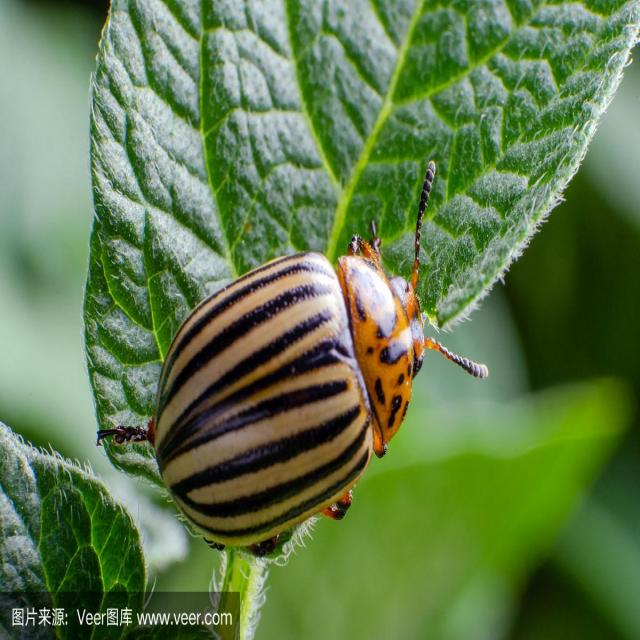ShuCaiHuaBanChong-Grown-: (116, 204, 446, 546)
